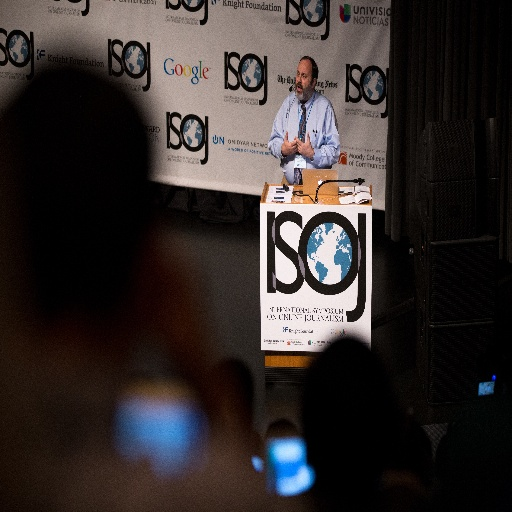hand: (281, 129, 298, 159), (296, 131, 312, 150)
